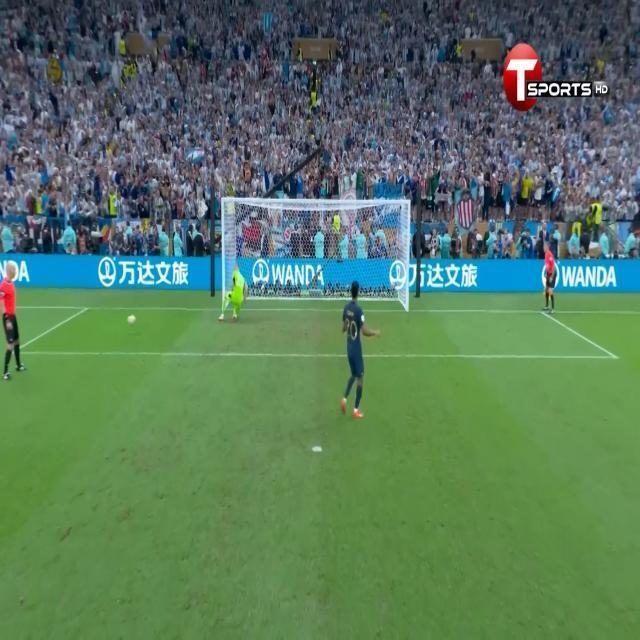ball: (125, 312, 138, 328)
goalkeeper: (220, 258, 250, 331)
player: (338, 274, 381, 420)
referee: (0, 263, 29, 386), (542, 241, 558, 316)
